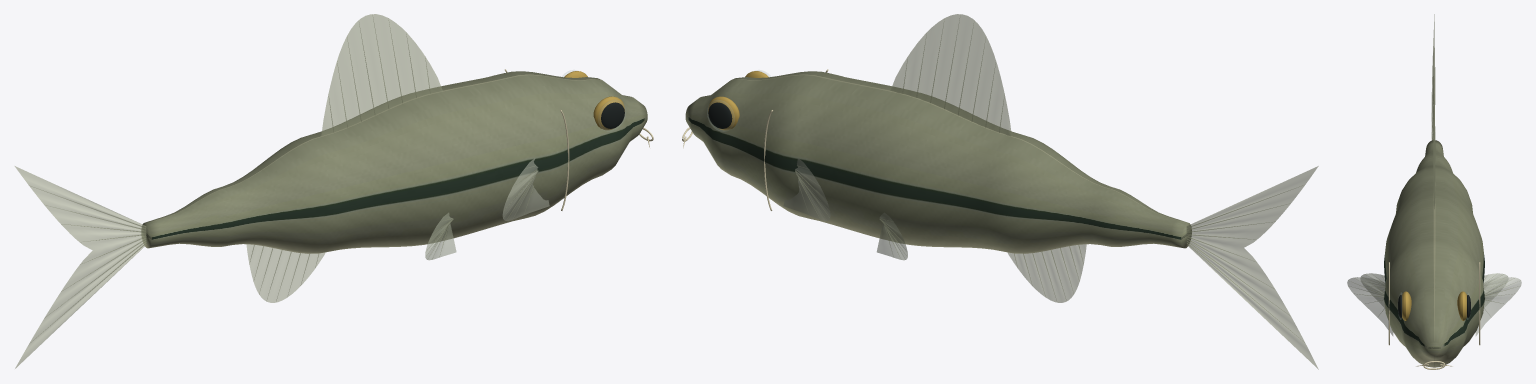
The model's file is sae-mobile.glb.
3 views of the same model, side by side, from view 1: azimuth 30°, elevation 25°; view 2: azimuth 150°, elevation 25°; view 3: azimuth 270°, elevation 25° (orthographic). The views are drawn at different scales.
Parts seen in each view (by area): view 1: skin, dorsal, tail, anal, dorsal-ray, pectoral-left, pelvic-left, eye-iris--1; view 2: skin, dorsal, tail, anal, dorsal-ray, pectoral-left, pelvic-left; view 3: skin, pectoral-left, pelvic-left, eye-iris--1, operculum, tail, dorsal-ray, dorsal, eye-pupil--1.
Part boxes in pixels (x1,y1,x2,y2): skin: [141, 71, 647, 253]; dorsal: [321, 14, 442, 135]; tail: [15, 166, 146, 368]; anal: [246, 244, 325, 302]; dorsal-ray: [31, 15, 537, 340]; pectoral-left: [502, 158, 549, 220]; pelvic-left: [425, 212, 456, 260]; eye-iris--1: [564, 71, 625, 130]; skin: [685, 71, 1191, 253]; dorsal: [890, 14, 1011, 136]; tail: [1186, 166, 1318, 369]; anal: [1007, 244, 1086, 302]; dorsal-ray: [795, 19, 1304, 342]; pectoral-left: [783, 158, 830, 220]; pelvic-left: [877, 212, 907, 260]; skin: [1384, 140, 1484, 367]; pectoral-left: [1347, 277, 1521, 335]; pelvic-left: [1360, 273, 1508, 307]; eye-iris--1: [1402, 291, 1466, 320]; operculum: [1388, 262, 1480, 369]; tail: [1431, 14, 1435, 140]; dorsal-ray: [1353, 38, 1517, 313]; dorsal: [1433, 101, 1435, 208]; eye-pupil--1: [1398, 295, 1470, 317].
Size of the model in its own units: 0.6032 by 0.2446 by 0.1766.
Materials: 11 (1 with a texture image).
